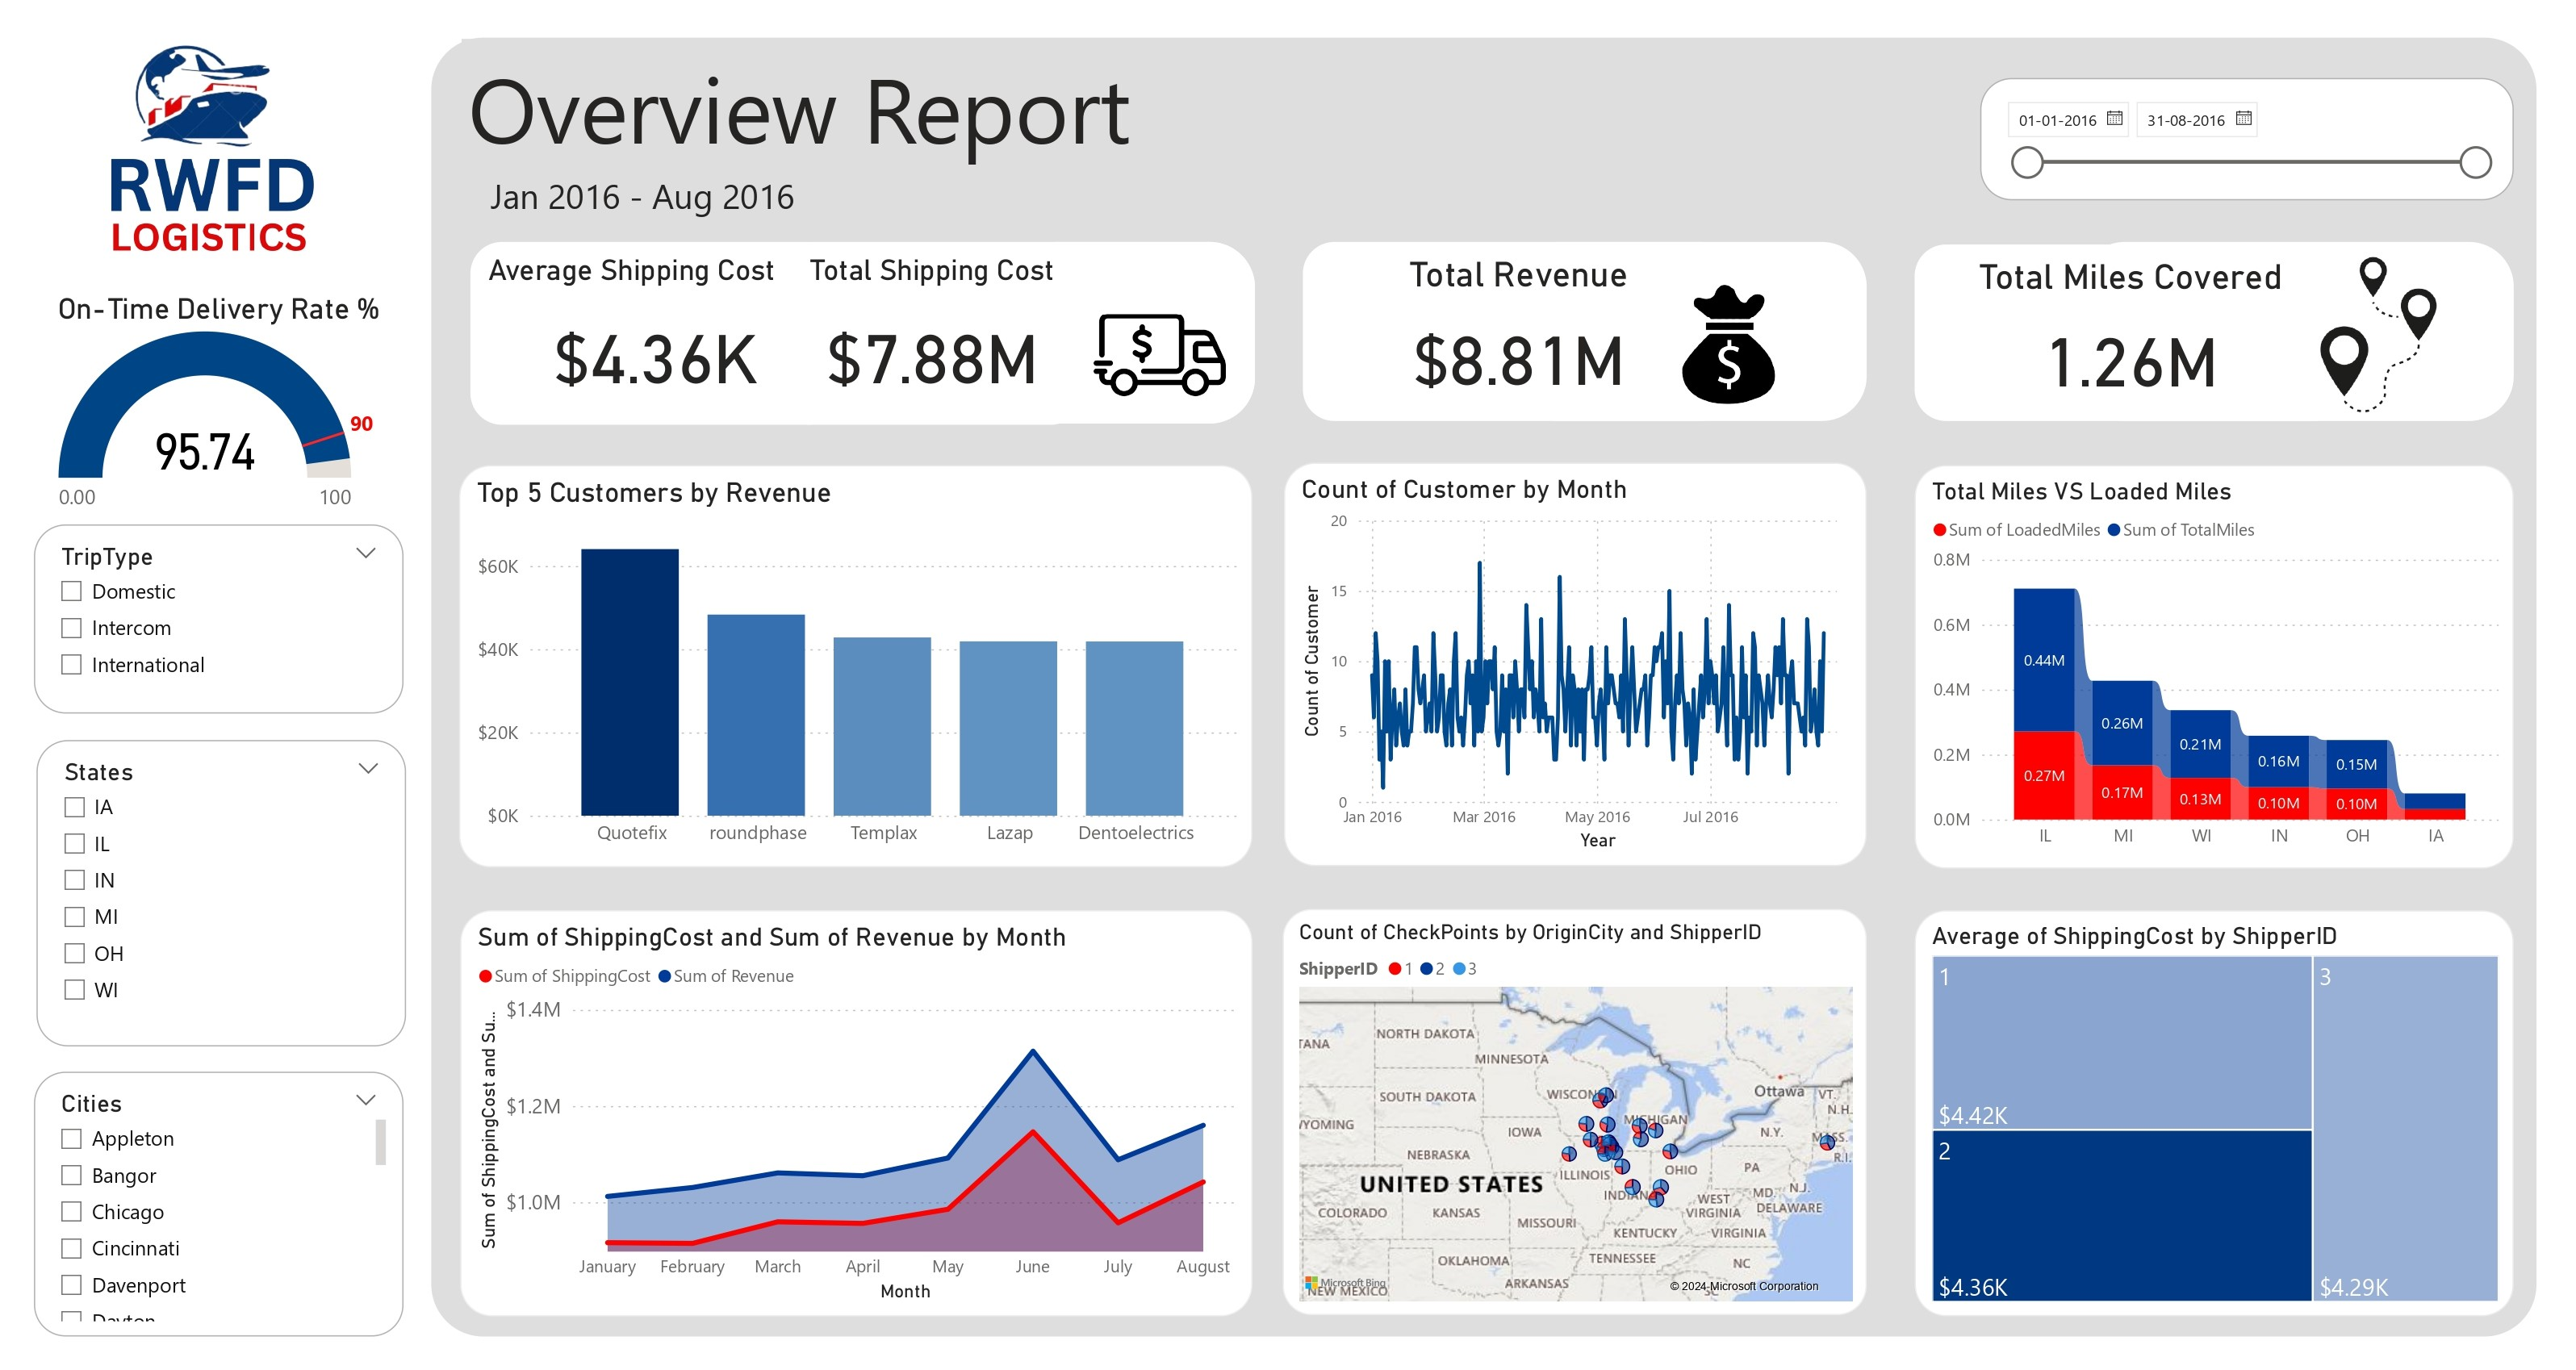

Layout of this report page (visuals, bound fields, positions):
{"tool":"powerbi","page":{"name":"Page 1","canvas":[2100,1100],"ordinal":0},"visuals":[{"type":"shape","box":[363.9,33.5,1669.2,1030.8],"z":0},{"type":"shape","box":[1222,195.9,280,142.5],"z":1000},{"type":"shape","box":[1670.5,195.9,344,142],"z":2000},{"type":"shape","box":[822.5,195.9,194,144],"z":3000},{"type":"card","title":"Average Shipping Cost","fields":{"Values":["Avg(Worksheet.ShippingCost)"]},"box":[394.5,195.9,292.5,145],"z":4000},{"type":"card","title":"Total Shipping Cost","fields":{"Values":["Sum(Worksheet.ShippingCost)"]},"box":[639.5,195.9,240,145],"z":5000},{"type":"gauge","title":"On-Time Delivery Rate %","fields":{"Y":["Worksheet.On-Time Delivery Rate"],"MaxValue":["Worksheet.max OTDR"],"TargetValue":["Worksheet.target OTDR"]},"box":[49.4,235.6,292.5,184.3],"z":6000},{"type":"card","title":"Total Miles Covered","fields":{"Values":["Sum(Worksheet.TotalMiles)"]},"box":[1539.5,198.4,340,140],"z":7000},{"type":"card","title":"Total Revenue","fields":{"Values":["Sum(Worksheet.Revenue)"]},"box":[1054.5,195.9,340,142.5],"z":8000},{"type":"image","box":[78.2,32.8,221.5,177.5],"z":9000},{"type":"textbox","box":[387.5,35.5,1024.6,126.9],"z":10000},{"type":"textbox","box":[406.4,136.2,502.1,59.2],"z":11000},{"type":"areaChart","fields":{"Category":["Worksheet.ShipDate.Variation.Date Hierarchy.Month"],"Y":["Sum(Worksheet.ShippingCost)","Sum(Worksheet.Revenue)"]},"box":[387,725.9,627.5,322.5],"z":12000},{"type":"lineChart","title":"Count of Customer by Month ","fields":{"Y":["CountNonNull(Worksheet.Customer)"],"Category":["Worksheet.ShipDate.Variation.Date Hierarchy.Year","Worksheet.ShipDate.Variation.Date Hierarchy.Quarter","Worksheet.ShipDate.Variation.Date Hierarchy.Month","Worksheet.ShipDate.Variation.Date Hierarchy.Day"]},"box":[1039.5,370.9,462.5,320],"z":13000},{"type":"slicer","fields":{"Values":["Worksheet.TripType"]},"box":[49.4,419.9,292.5,150.5],"z":14000},{"type":"slicer","fields":{"Values":["Worksheet.ShipDate"]},"box":[1592,65.9,422.5,97.5],"z":15000},{"type":"slicer","fields":{"Values":["Worksheet.OriginCity"]},"box":[49.4,854.4,292.5,209.6],"z":16000},{"type":"slicer","fields":{"Values":["Worksheet.States"]},"box":[51.1,590.7,292.5,243.5],"z":17000},{"type":"clusteredColumnChart","title":"Top 5 Customers by Revenue","fields":{"Y":["Sum(Worksheet.Revenue)"],"Category":["Worksheet.Customer"]},"box":[385.9,372.9,629.1,319.2],"z":18000},{"type":"columnChart","title":"Total Miles VS Loaded Miles","fields":{"Category":["Worksheet.DesState"],"Y":["Sum(Worksheet.LoadedMiles)","Sum(Worksheet.TotalMiles)"]},"box":[1539.5,373.4,475,320],"z":19000},{"type":"treemap","fields":{"Group":["Worksheet.ShipperID"],"Values":["Avg(Worksheet.ShippingCost)"]},"box":[1539.5,725.9,475,322.5],"z":20000},{"type":"image","box":[1332,213.4,122.5,135],"z":21000},{"type":"image","box":[1834.5,173.4,145,192.5],"z":22000},{"type":"image","box":[864.5,228.4,152.5,115],"z":23000},{"type":"map","fields":{"Category":["Worksheet.OriginCity","Worksheet.DestinationCity"],"Size":["CountNonNull(Worksheet.CheckPoints)"],"Series":["Worksheet.ShipperID"]},"box":[1039,725.4,462.7,322],"z":24000}]}

Visuals, with their boxes in screenshot pixels (x1, y1, x2, y2), scaled from the page's 2100x1100 canvas onto the 2576x1370 screenshot:
shape: {"left": 446, "top": 42, "right": 2494, "bottom": 1326}
shape: {"left": 1499, "top": 244, "right": 1842, "bottom": 421}
shape: {"left": 2049, "top": 244, "right": 2471, "bottom": 421}
shape: {"left": 1009, "top": 244, "right": 1247, "bottom": 424}
"Average Shipping Cost" card: {"left": 484, "top": 244, "right": 843, "bottom": 424}
"Total Shipping Cost" card: {"left": 784, "top": 244, "right": 1079, "bottom": 424}
"On-Time Delivery Rate %" gauge: {"left": 61, "top": 294, "right": 420, "bottom": 523}
"Total Miles Covered" card: {"left": 1888, "top": 247, "right": 2306, "bottom": 421}
"Total Revenue" card: {"left": 1294, "top": 244, "right": 1711, "bottom": 421}
image: {"left": 96, "top": 41, "right": 368, "bottom": 262}
textbox: {"left": 475, "top": 44, "right": 1732, "bottom": 203}
textbox: {"left": 499, "top": 169, "right": 1114, "bottom": 244}
areaChart - Worksheet.ShipDate.Variation.Date Hierarchy.Month x Sum(Worksheet.ShippingCost): {"left": 475, "top": 904, "right": 1244, "bottom": 1305}
"Count of Customer by Month " lineChart: {"left": 1275, "top": 462, "right": 1842, "bottom": 860}
slicer - Worksheet.TripType: {"left": 61, "top": 523, "right": 420, "bottom": 710}
slicer - Worksheet.ShipDate: {"left": 1953, "top": 82, "right": 2471, "bottom": 203}
slicer - Worksheet.OriginCity: {"left": 61, "top": 1064, "right": 420, "bottom": 1325}
slicer - Worksheet.States: {"left": 63, "top": 736, "right": 421, "bottom": 1039}
"Top 5 Customers by Revenue" clusteredColumnChart: {"left": 474, "top": 465, "right": 1245, "bottom": 862}
"Total Miles VS Loaded Miles" columnChart: {"left": 1888, "top": 465, "right": 2471, "bottom": 863}
treemap - Worksheet.ShipperID x Avg(Worksheet.ShippingCost): {"left": 1888, "top": 904, "right": 2471, "bottom": 1305}
image: {"left": 1634, "top": 265, "right": 1784, "bottom": 434}
image: {"left": 2250, "top": 216, "right": 2428, "bottom": 456}
image: {"left": 1060, "top": 285, "right": 1248, "bottom": 428}
map - Worksheet.OriginCity x Worksheet.DestinationCity: {"left": 1274, "top": 904, "right": 1842, "bottom": 1305}
